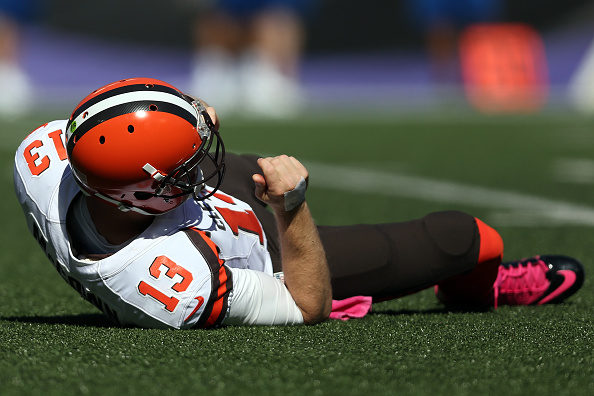deitado: (32, 24, 557, 358)
